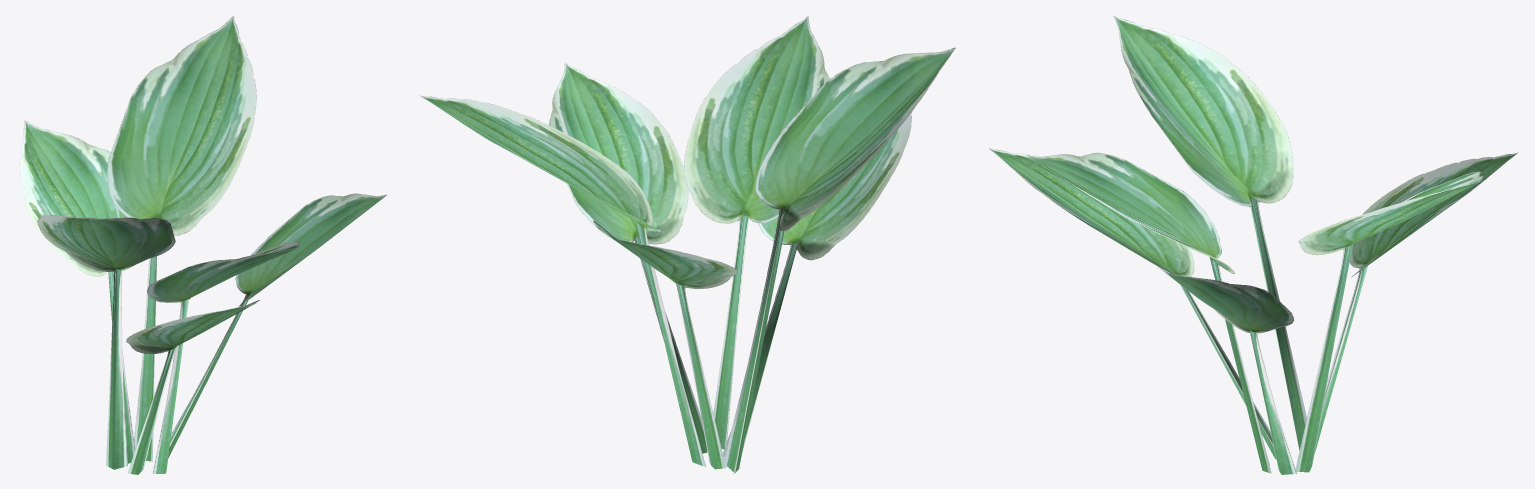
The model's file is plant_small_wg_03K.fbx.
3 renders of one model, left to right at view 1: azimuth 30°, elevation 25°; view 2: azimuth 150°, elevation 25°; view 3: azimuth 270°, elevation 25°, orthographic. The views are drawn at different scales.
Parts seen in each view (by area): view 1: plant_small_wg_03K; view 2: plant_small_wg_03K; view 3: plant_small_wg_03K.
Part boxes in pixels (box(x1,y1,x2,y2)): plant_small_wg_03K: box(19, 16, 386, 474); plant_small_wg_03K: box(420, 16, 955, 474); plant_small_wg_03K: box(989, 16, 1517, 474).
Size of the model in its own units: 47.13 by 47.23 by 59.76.
